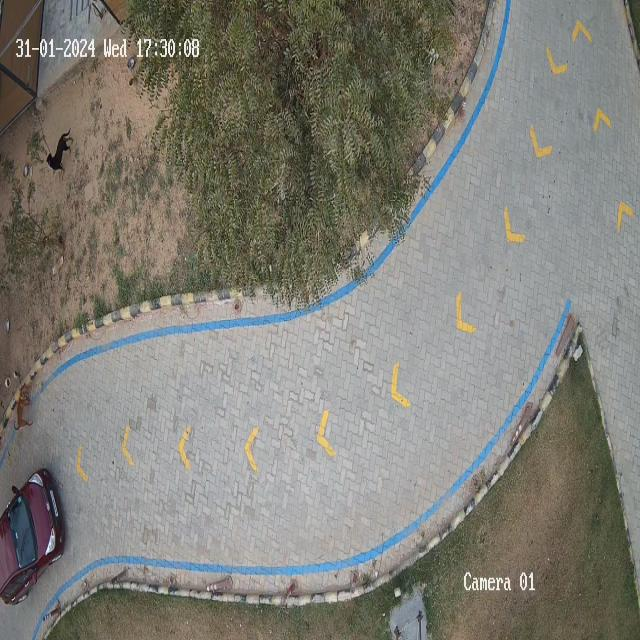car: (0, 469, 64, 602)
